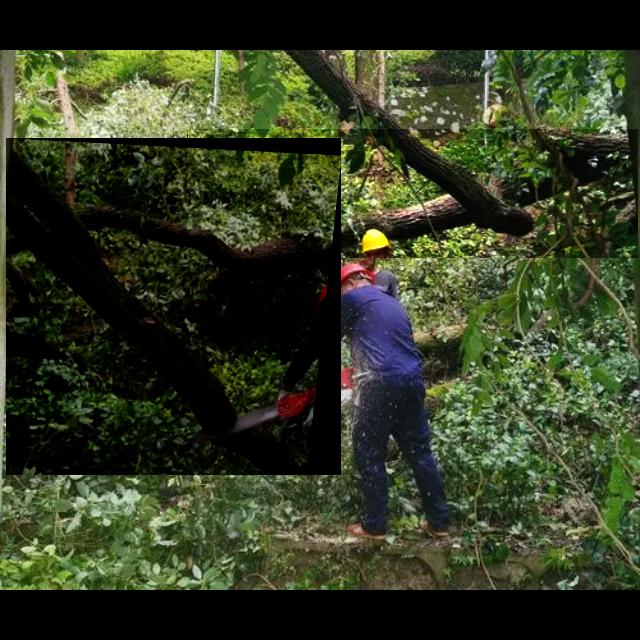Fallen Tree: (6, 138, 342, 476), (187, 129, 639, 259)
